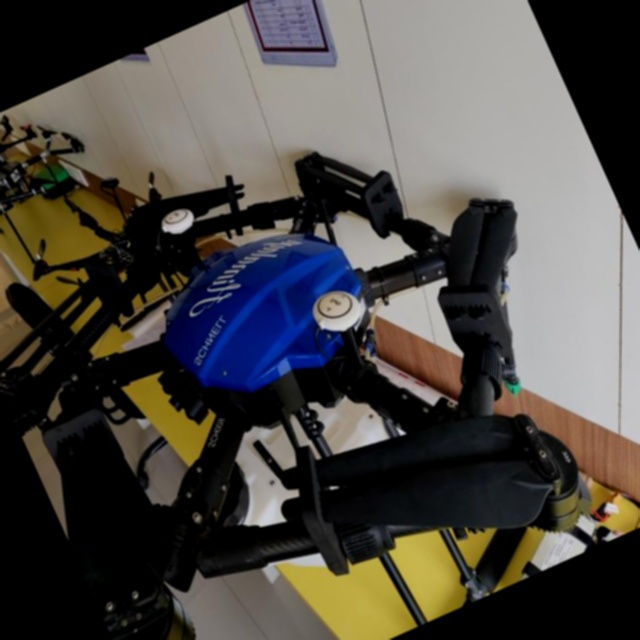agriculturedrone: (0, 69, 640, 640)
